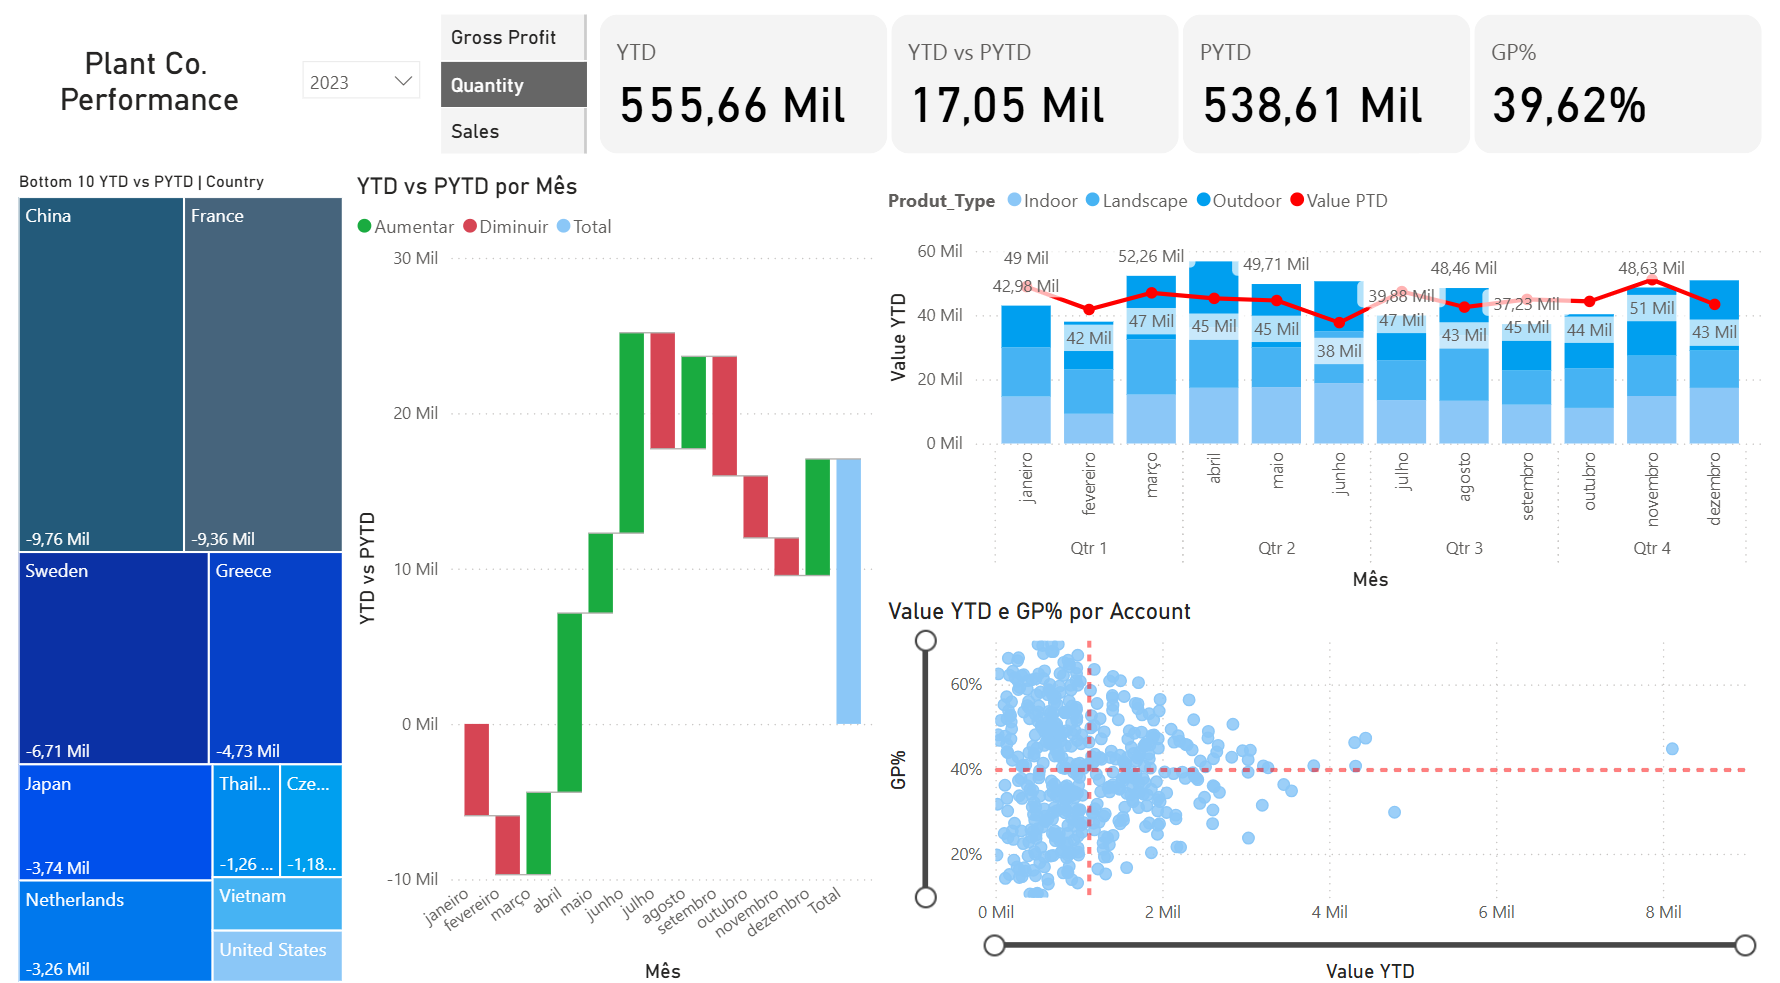

What the dashboard file says about the page in this screenshot:
{"tool":"powerbi","page":{"name":"Página 2","canvas":[1280,720],"ordinal":0},"visuals":[{"type":"cardVisual","fields":{"Data":["_Measures.S_YTD","_Measures.YTD vs PYTD","_Measures.S_PYTD","_Measures.GP%"]},"box":[423.1,7.3,857.2,111.3],"z":0},{"type":"advancedSlicerVisual","fields":{"Values":["Slc_Values.Values"]},"box":[306.9,7.3,116.2,111.3],"z":1000},{"type":"slicer","title":"Ano","fields":{"Values":["Dim_Date.Date.Variation.Hierarquia de datas.Ano1"]},"box":[200.5,35.5,106.4,50.1],"z":2000},{"type":"treemap","title":"Bottom 10 YTD vs PYTD | Country","fields":{"Values":["_Measures.YTD vs PYTD"],"Group":["Dim_Account.country"]},"box":[0,126,245.8,594.3],"z":3000},{"type":"waterfallChart","fields":{"Category":["Dim_Date.Date.Variation.Hierarquia de datas.Mês","Dim_Account.country","Dim_Product.Produt_Type","Dim_Product.Product_Name"],"Y":["_Measures.YTD vs PYTD"]},"box":[245.8,126,386.4,594.3],"z":4000},{"type":"lineStackedColumnComboChart","fields":{"Y":["_Measures.S_YTD"],"Y2":["_Measures.S_PYTD"],"Category":["Dim_Date.Date.Variation.Hierarquia de datas.Trimestre","Dim_Date.Date.Variation.Hierarquia de datas.Mês"],"Series":["Dim_Product.Produt_Type"]},"box":[632.2,126,648.1,309.4],"z":5000},{"type":"scatterChart","fields":{"X":["_Measures.S_YTD"],"Y":["_Measures.GP%"],"Category":["Dim_Account.Account"]},"box":[632.2,435.3,648.1,284.9],"z":6000},{"type":"card","fields":{"Values":["_Measures._Chart Title"]},"box":[0,0,200.5,118.6],"z":6001}]}

Visuals, with their boxes in screenshot pixels (x1, y1, x2, y2), scaled from the page's 1280x720 canvas onto the 1780x983 screenshot:
cardVisual - _Measures.S_YTD x _Measures.YTD vs PYTD: crop(588, 10, 1779, 162)
advancedSlicerVisual - Slc_Values.Values: crop(427, 10, 588, 162)
"Ano" slicer: crop(279, 48, 427, 117)
"Bottom 10 YTD vs PYTD | Country" treemap: crop(0, 172, 342, 982)
waterfallChart - Dim_Date.Date.Variation.Hierarquia de datas.Mês x Dim_Account.country: crop(342, 172, 879, 982)
lineStackedColumnComboChart - _Measures.S_YTD x _Measures.S_PYTD: crop(879, 172, 1779, 594)
scatterChart - _Measures.S_YTD x _Measures.GP%: crop(879, 594, 1779, 982)
card - _Measures._Chart Title: crop(0, 0, 279, 162)
